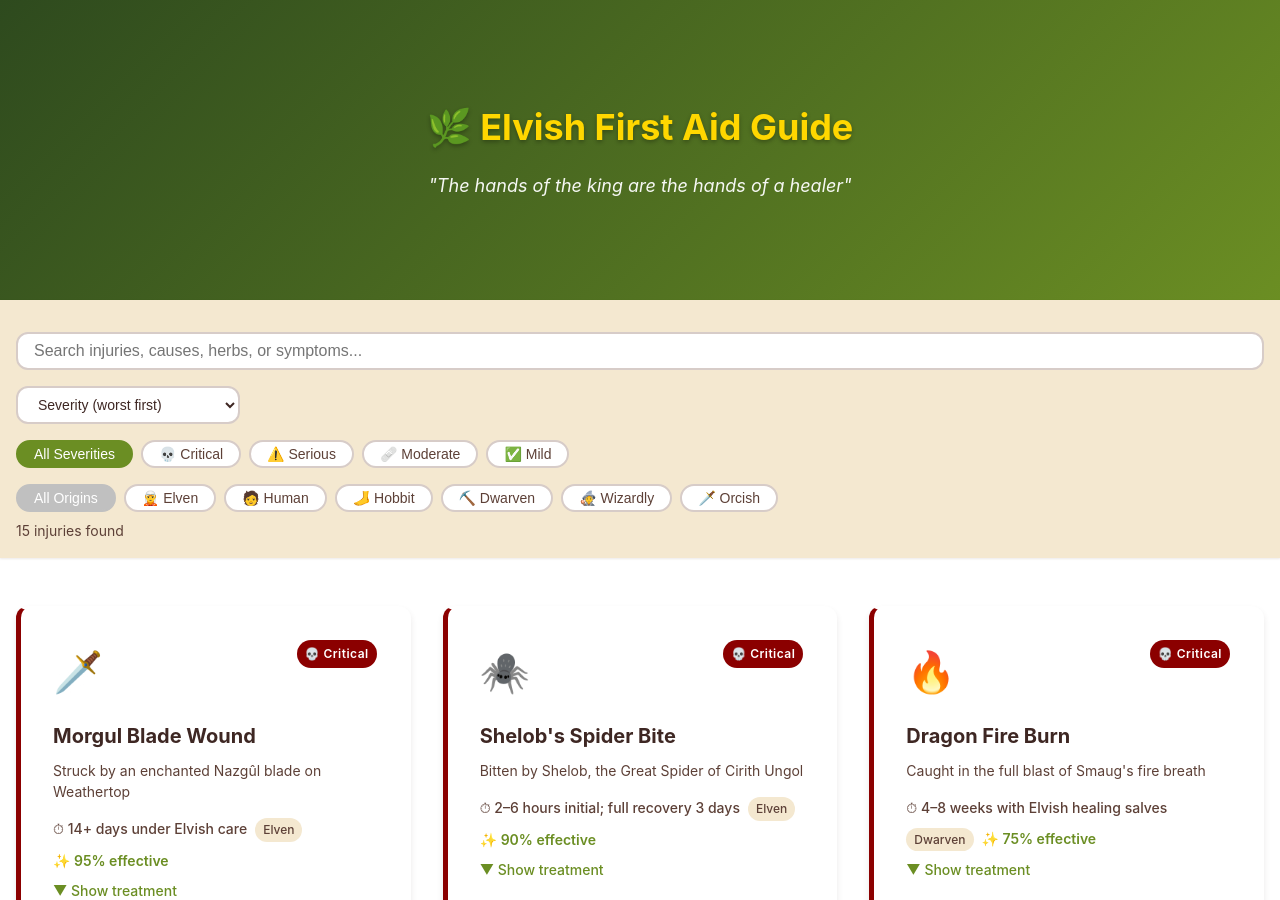
Test: InjuryDatabase › shows empty state when no injuries match the search
In the field with class "search-input": (640,351) [16,332,1264,370], type "balrog sandwich recipe xyz"
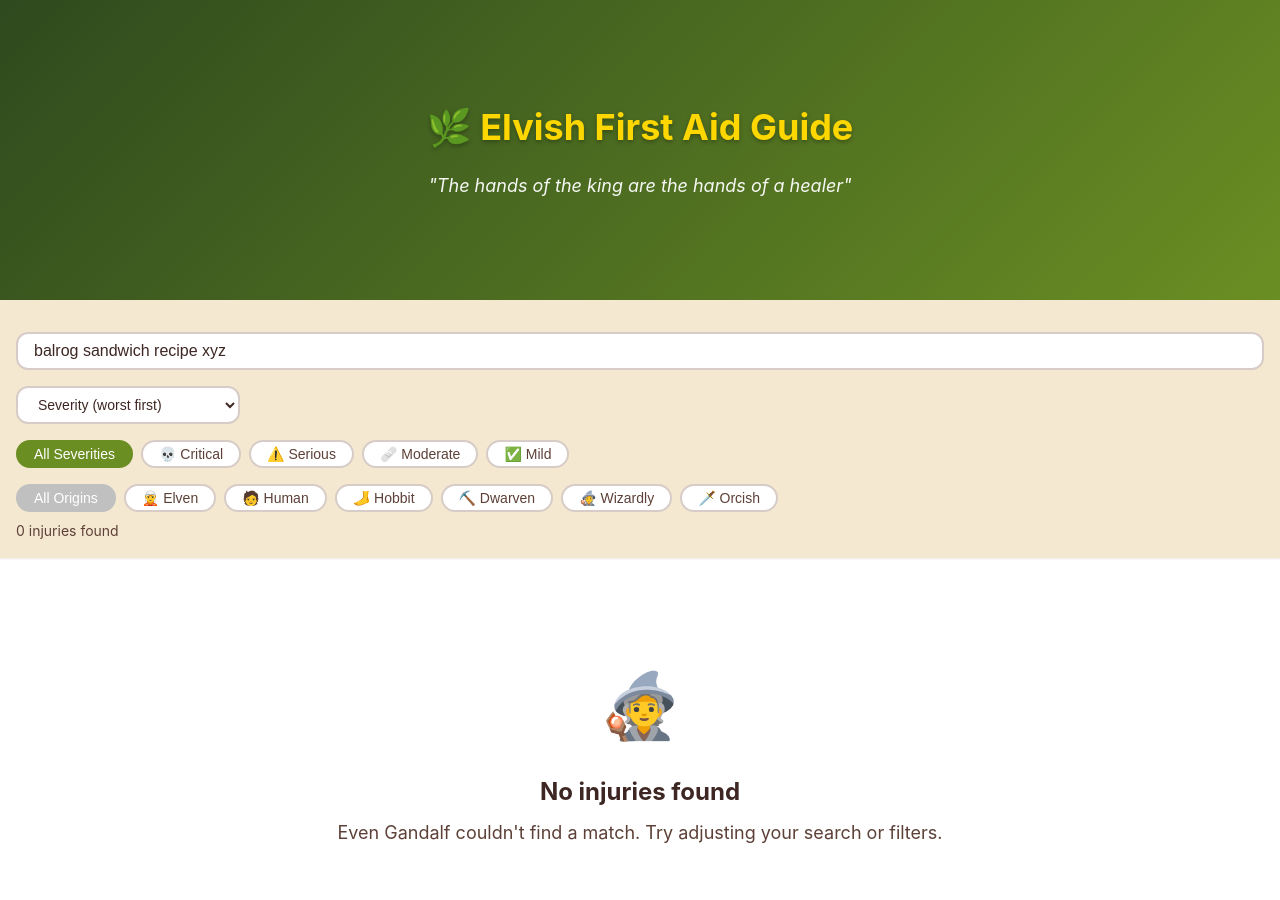
Result: the element with class "empty-state" is shown at [337,666,942,843]
